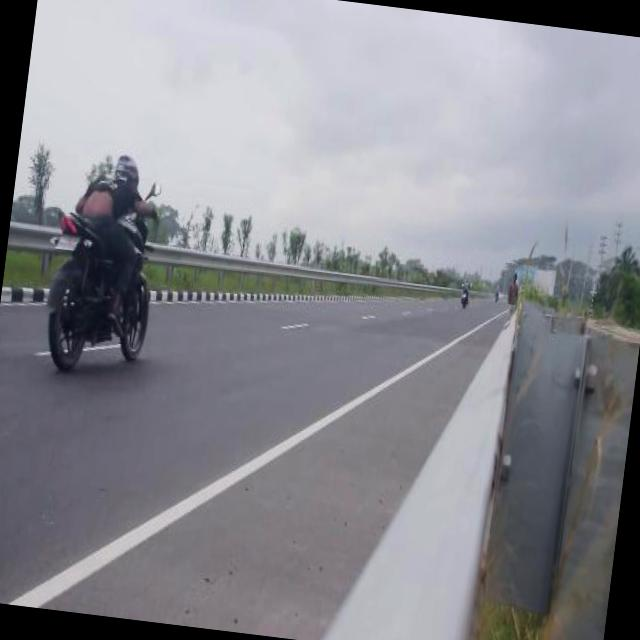motorcycle: (38, 149, 170, 377), (459, 277, 472, 304), (495, 288, 500, 298)
